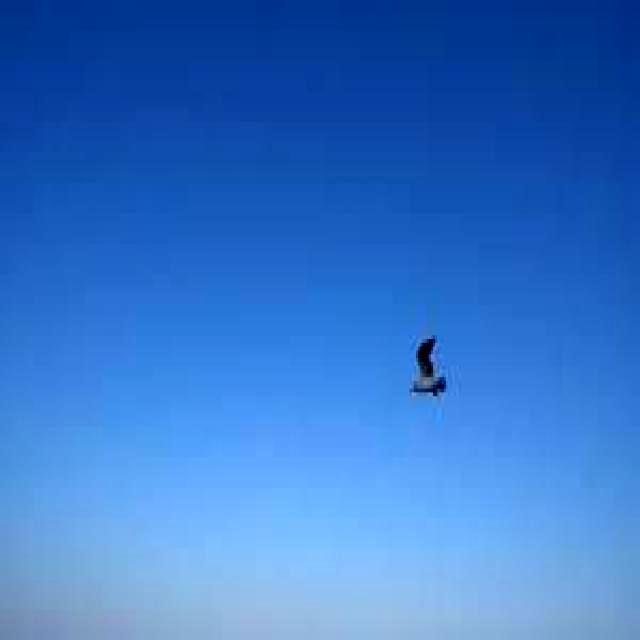bird: (408, 322, 451, 412)
